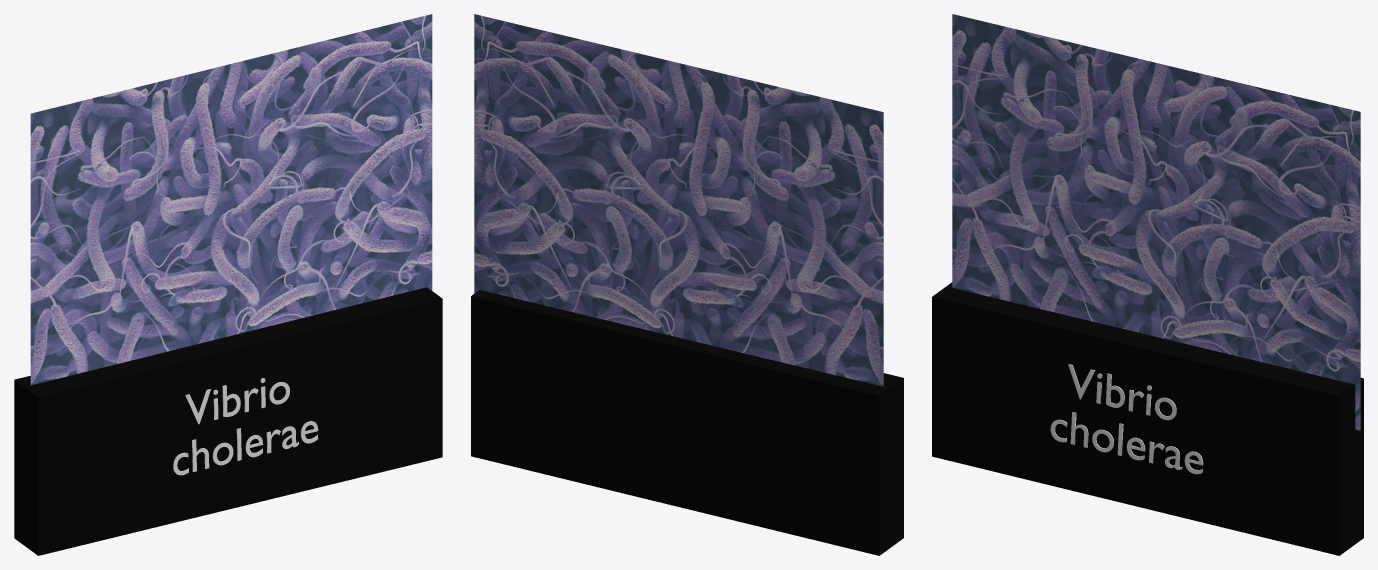
The model's file is vibrio.gltf.
The picture shows the model from 3 angles, left to right: view 1: azimuth 30°, elevation 25°; view 2: azimuth 150°, elevation 25°; view 3: azimuth 330°, elevation 25°; orthographic projection.
Visible parts, largest first — view 1: vibrio, Cube.004, Text.004; view 2: vibrio, Cube.004; view 3: vibrio, Cube.004, Text.004.
Boxes of the visible parts, <box> form: vibrio: <box>30,14,432,385</box>; Cube.004: <box>14,287,442,555</box>; Text.004: <box>173,378,318,475</box>; vibrio: <box>474,14,883,386</box>; Cube.004: <box>471,290,903,555</box>; vibrio: <box>952,14,1360,430</box>; Cube.004: <box>932,282,1363,555</box>; Text.004: <box>1050,364,1203,474</box>.
Size of the model in its own units: 2.06 by 2.07 by 0.2895.
Materials: 2 (1 with a texture image).
